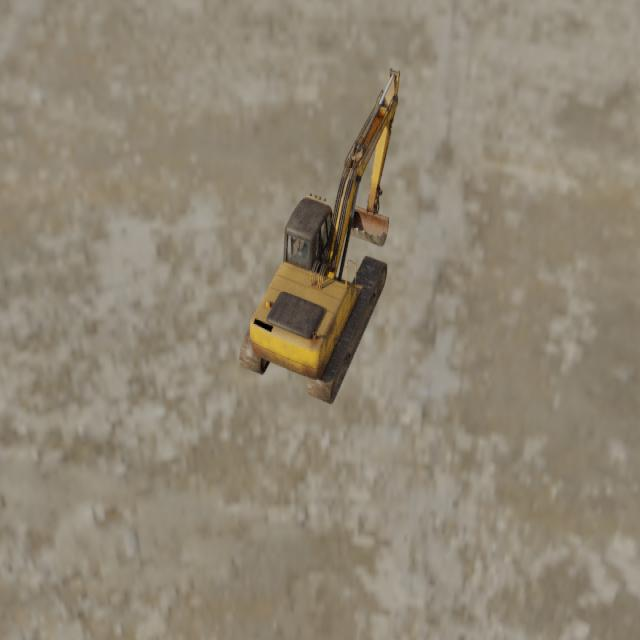excavator: (238, 67, 400, 404)
